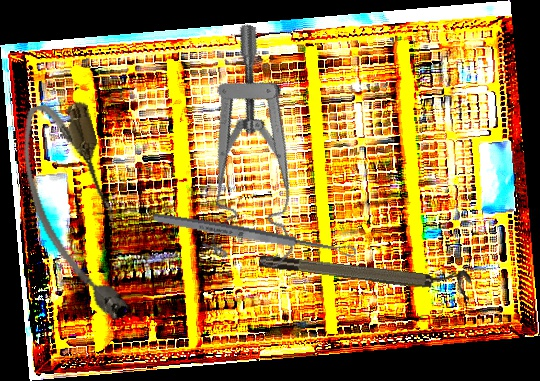Cannula: (9, 93, 143, 333)
Fixation Ring: (258, 241, 473, 301)
Speculum: (156, 21, 366, 282)
Surgical Spoon: (151, 210, 358, 260)
